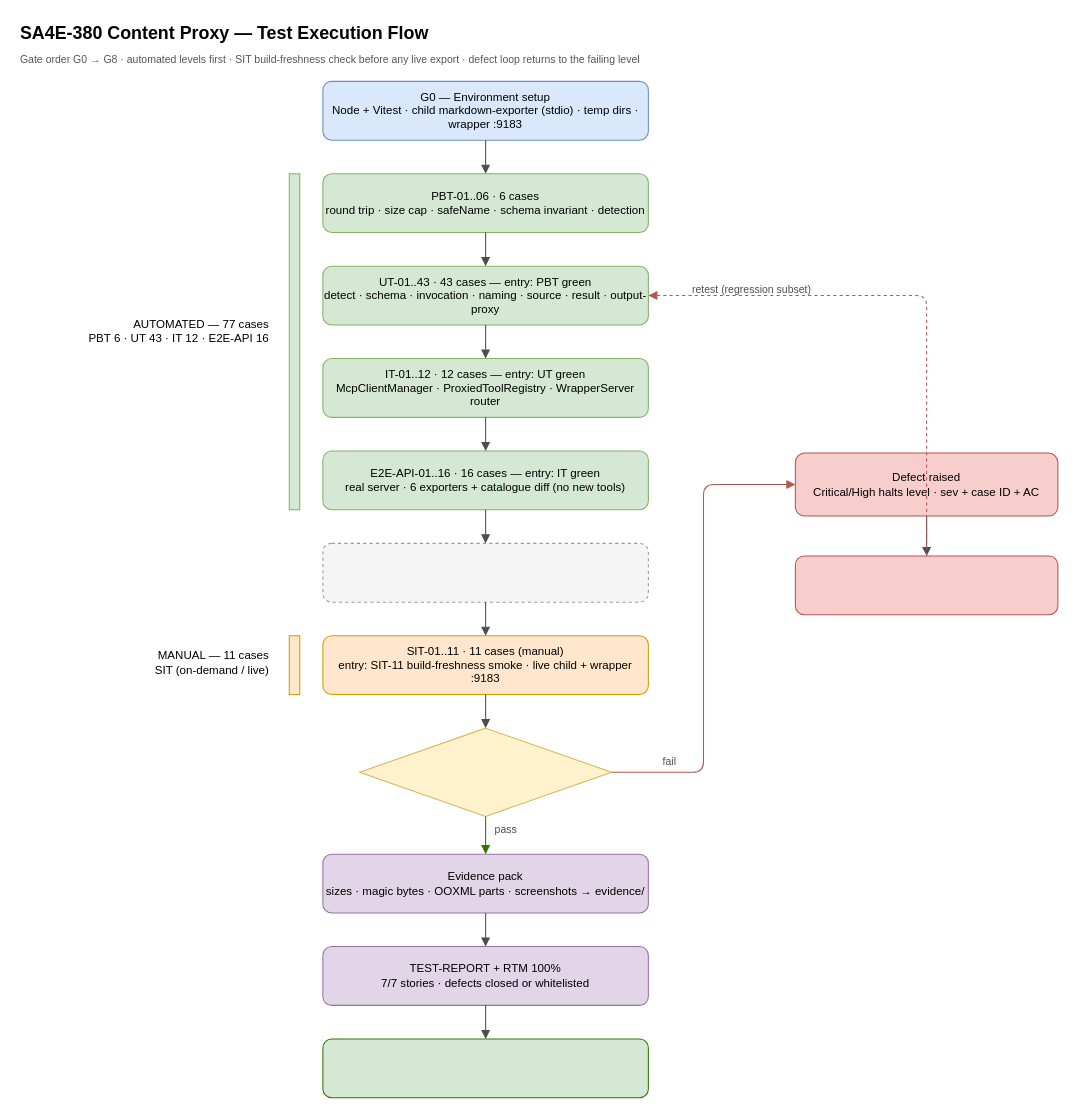
The diagram is 1076 pixels wide and 1116 high, and some of its shapes have lost their labels. Here are the shapes that lost their labels. From the top down, the centre of each, then its label:
the point at 485,572: E2E-UI — N/A · 0 cases no browser surface; contract asserted at E2E-API-01..07
the point at 926,585: Fix → targeted retest same level + adjacent shared-code level
the point at 485,771: All gates green? G1..G6
the point at 485,1068: EXIT GATE G8 — BA review APPROVED 0 Critical · 0 High open
